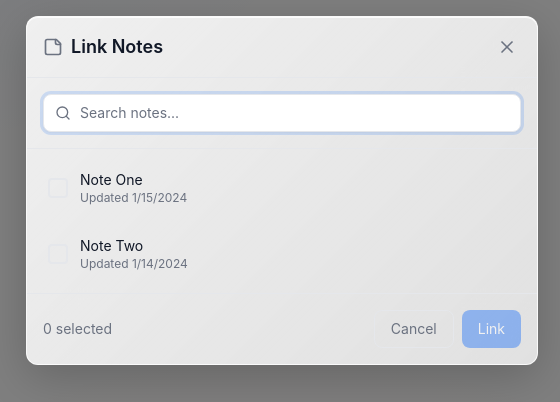
Scenario: LinkItemModal › Selection › can deselect items
The image size is (560, 402).
Click the text "Note One": (111, 179) [80, 170, 143, 188]
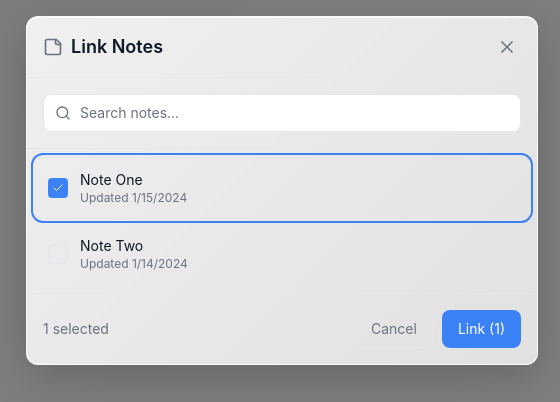
Expected: the text "1 selected" is shown, [43, 318, 109, 338]
Click the text "Note One": (111, 179) [80, 170, 143, 188]
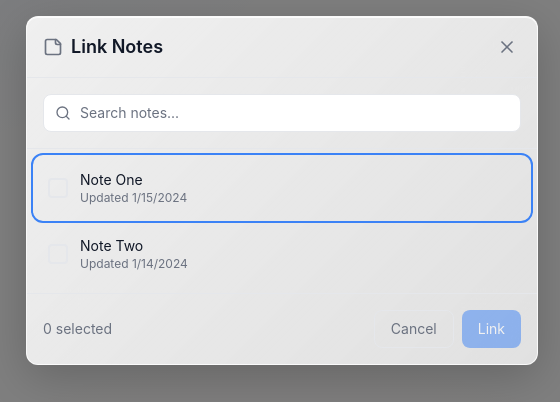
Expected: the text "0 selected" is shown, [43, 318, 112, 338]
